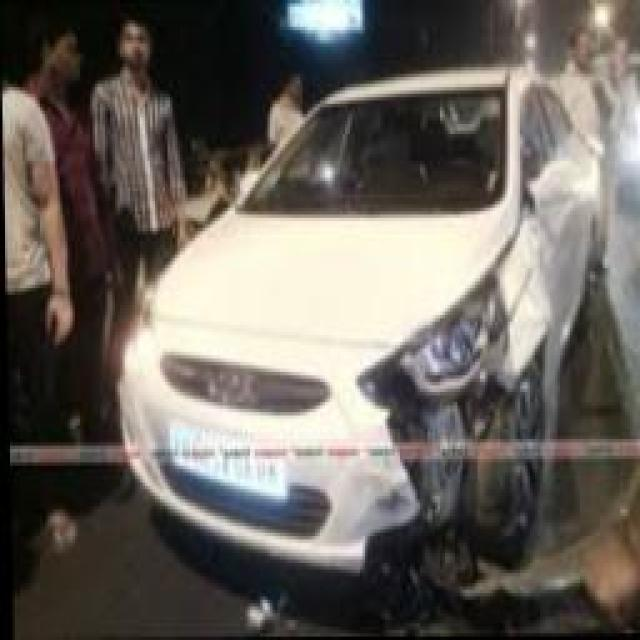Bumper: (251, 423, 477, 574)
Light: (356, 285, 506, 416)
